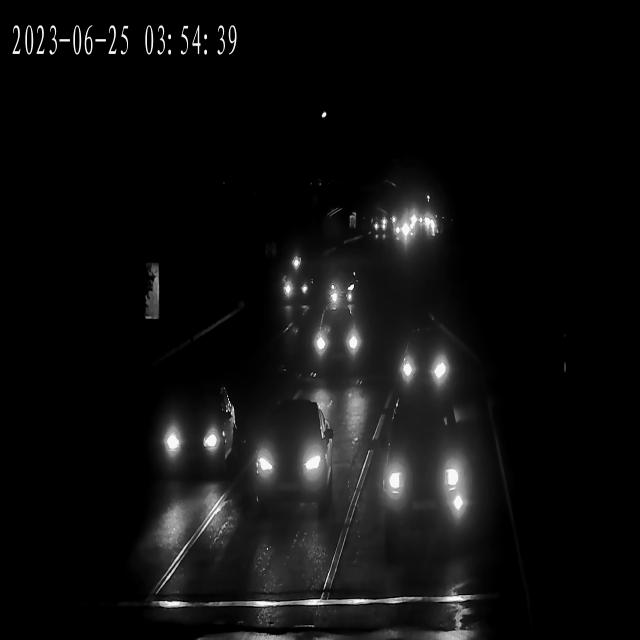Car: (378, 419, 476, 523), (234, 404, 331, 506), (146, 382, 237, 479), (391, 332, 458, 394), (303, 314, 366, 376), (277, 272, 310, 306), (324, 272, 355, 308), (409, 214, 437, 233), (392, 221, 417, 240), (390, 222, 413, 242), (393, 224, 416, 244), (390, 226, 412, 246), (368, 218, 388, 235)
